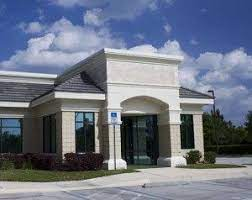Building House: (4, 56, 214, 166)
